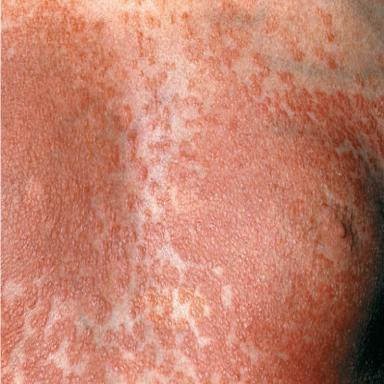Darier_s-Disease: (0, 1, 381, 384)
